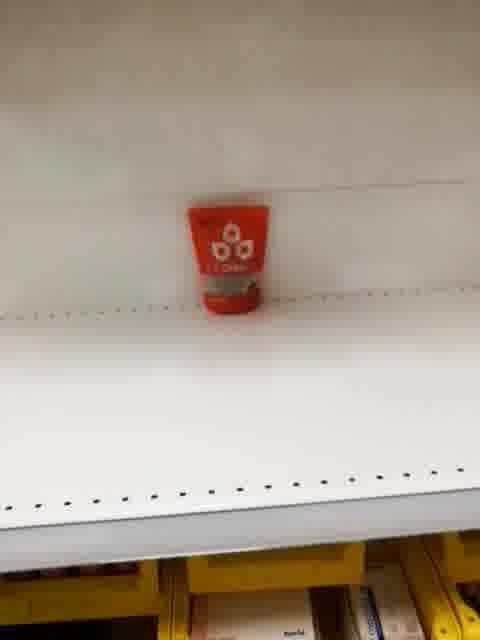whitechia: (184, 202, 270, 315)
